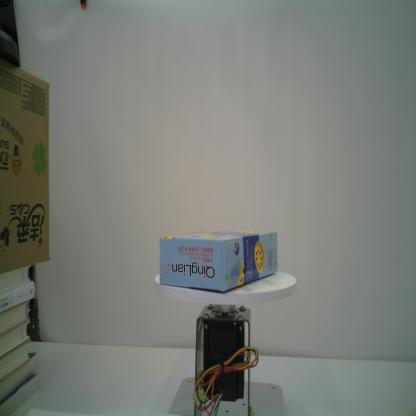Dessert: (158, 227, 279, 294)
